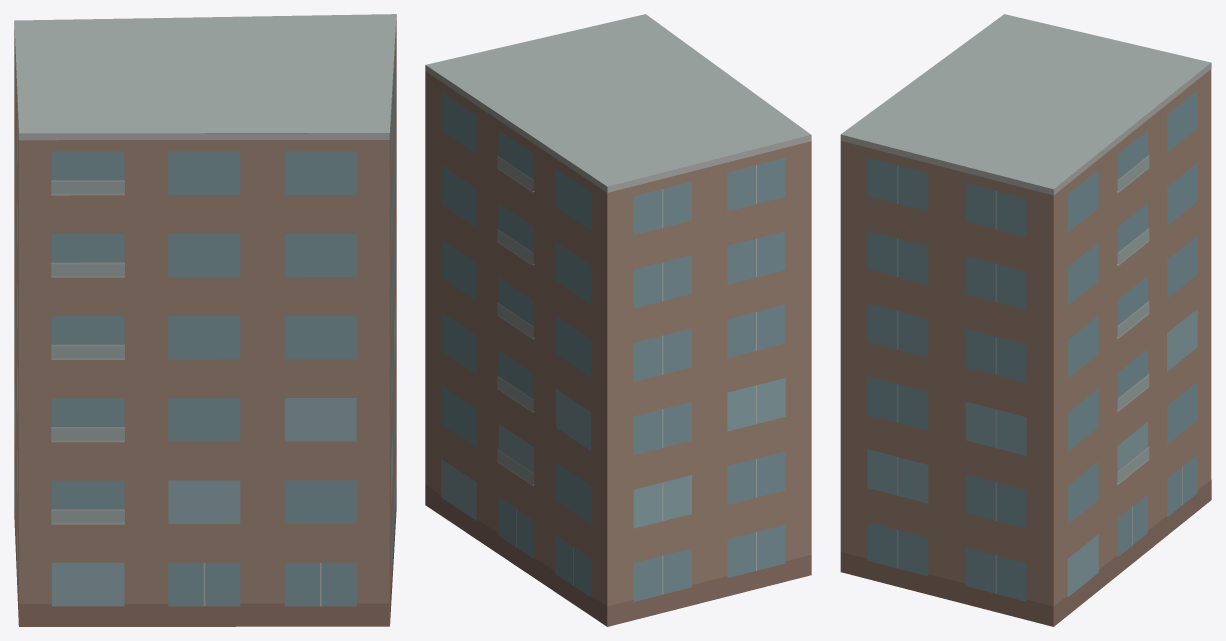
File: survey-upis-32742473.glb
The picture shows the model from 3 angles, left to right: view 1: azimuth 30°, elevation 25°; view 2: azimuth 150°, elevation 25°; view 3: azimuth 270°, elevation 25°; orthographic projection. The views are drawn at different scales.
Parts seen in each view (by area): view 1: survey-upis-32742473.tmp; view 2: survey-upis-32742473.tmp; view 3: survey-upis-32742473.tmp.
Boxes of the visible parts, x1,y1,x2,y2 form: survey-upis-32742473.tmp: (14,14,396,626); survey-upis-32742473.tmp: (425,14,811,626); survey-upis-32742473.tmp: (840,14,1211,626).
Size of the model in its own units: 14.96 by 17.4 by 13.37.
